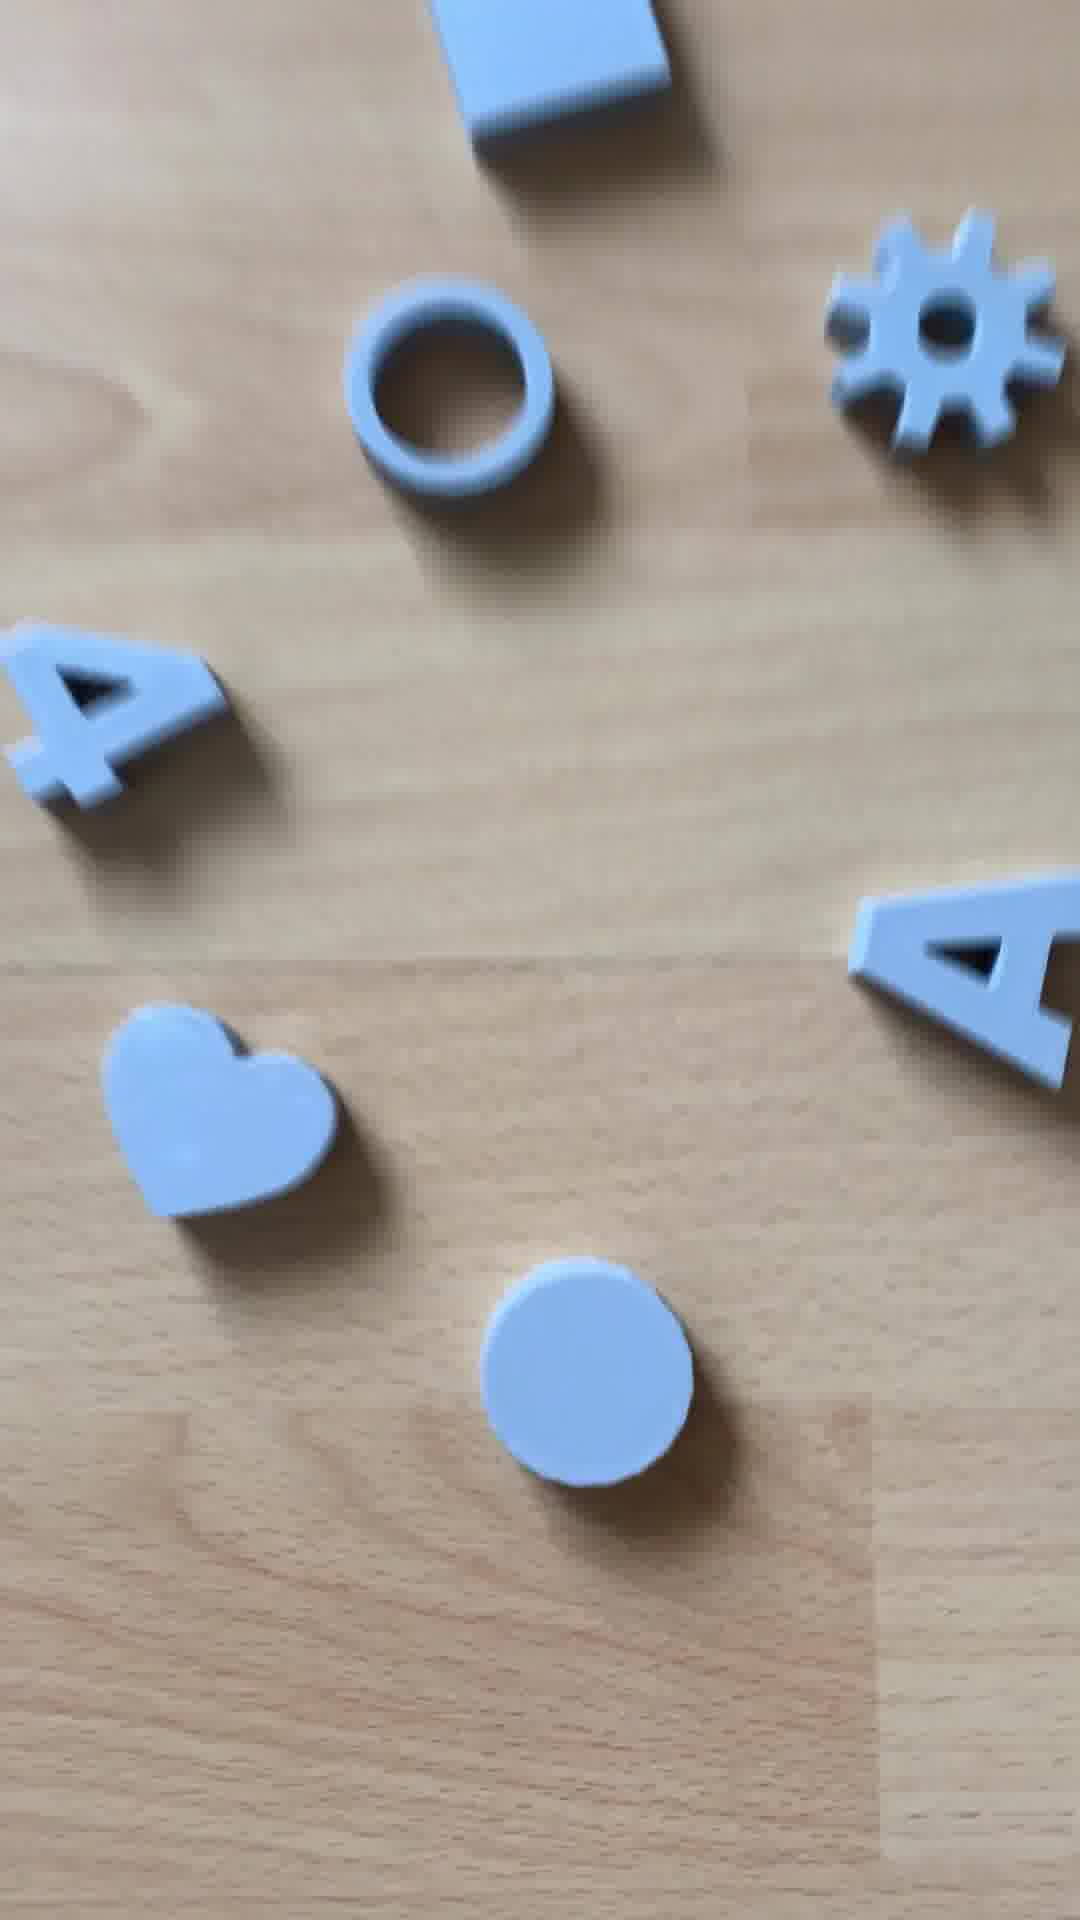Gray A-letter: (845, 844, 1080, 1101)
Gray circle: (469, 1250, 707, 1503)
Gray four: (1, 608, 237, 836)
Gray gear: (829, 210, 1064, 465)
Gray heart: (84, 1006, 339, 1238)
Gray ring: (335, 272, 564, 506)
Gray square: (417, 1, 686, 160)
